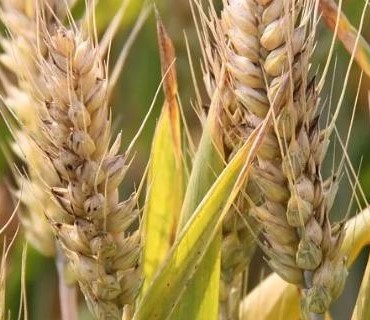Wheat scab: (219, 4, 347, 293), (33, 20, 156, 302)
